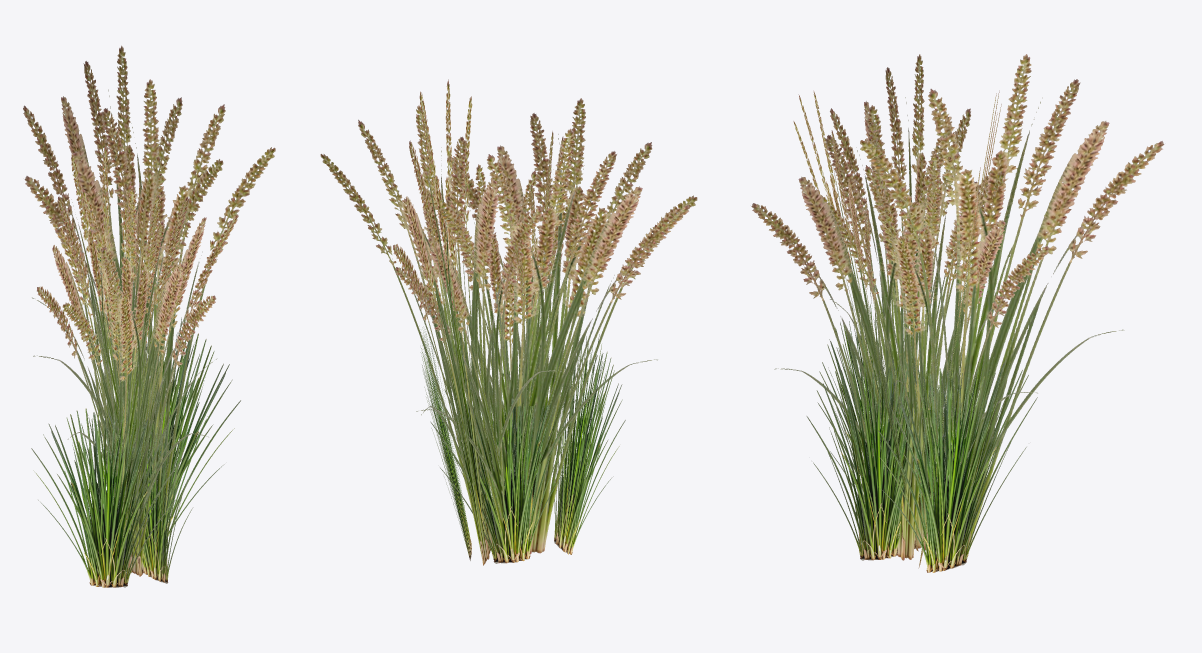
The model's file is grass_tuft_02_real.glb.
3 views of the same model, side by side, from view 1: azimuth 30°, elevation 25°; view 2: azimuth 150°, elevation 25°; view 3: azimuth 270°, elevation 25° (orthographic). The views are drawn at different scales.
Visible parts, largest first — view 1: grass_clump_02; view 2: grass_clump_02; view 3: grass_clump_02.
Boxes of the visible parts, box(x1,y1,x2,y2) form: grass_clump_02: box(23, 45, 275, 587); grass_clump_02: box(320, 79, 697, 565); grass_clump_02: box(751, 54, 1164, 572).
Size of the model in its own units: 0.733 by 1.09 by 0.8.
1 material, 1 textured.
